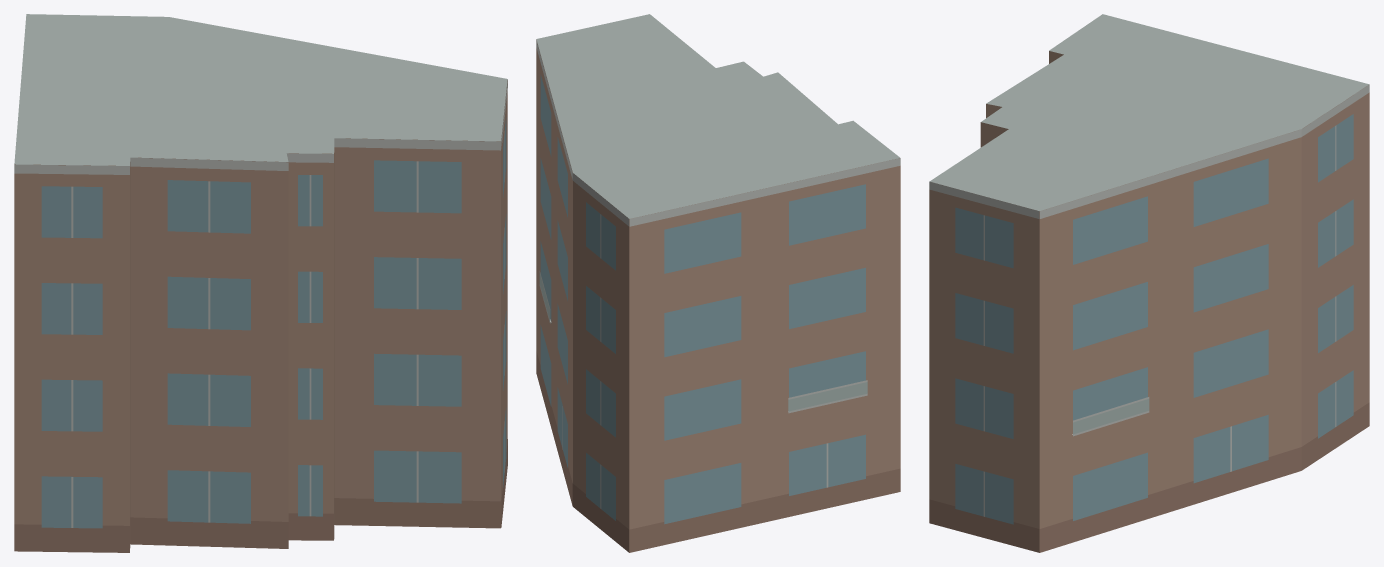
File: survey-upis-32631824.glb
3 views of the same model, side by side, from view 1: azimuth 30°, elevation 25°; view 2: azimuth 150°, elevation 25°; view 3: azimuth 270°, elevation 25° (orthographic). The views are drawn at different scales.
Visible parts, largest first — view 1: survey-upis-32631824.tmp; view 2: survey-upis-32631824.tmp; view 3: survey-upis-32631824.tmp.
Part boxes in pixels (bbox=[...]): survey-upis-32631824.tmp: bbox=[14, 14, 507, 552]; survey-upis-32631824.tmp: bbox=[536, 14, 900, 552]; survey-upis-32631824.tmp: bbox=[929, 14, 1369, 552].
Bounding box in the file's own units: 12.88 × 10.4 × 12.15.
